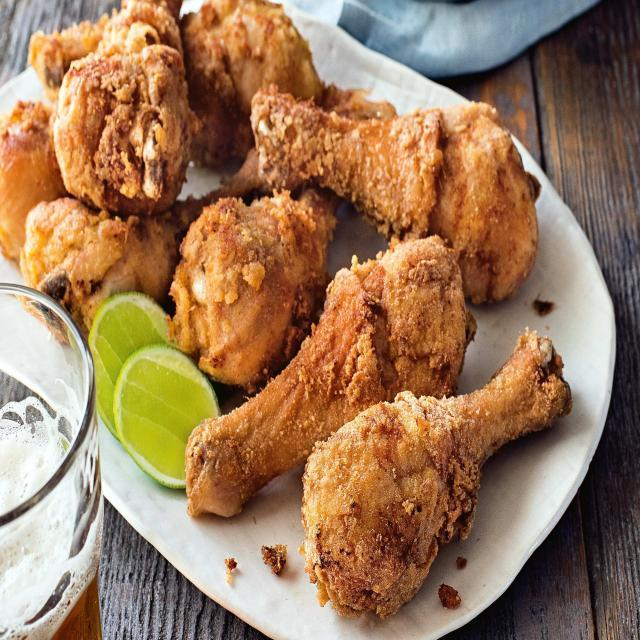ayam_goreng: (40, 11, 572, 577)
